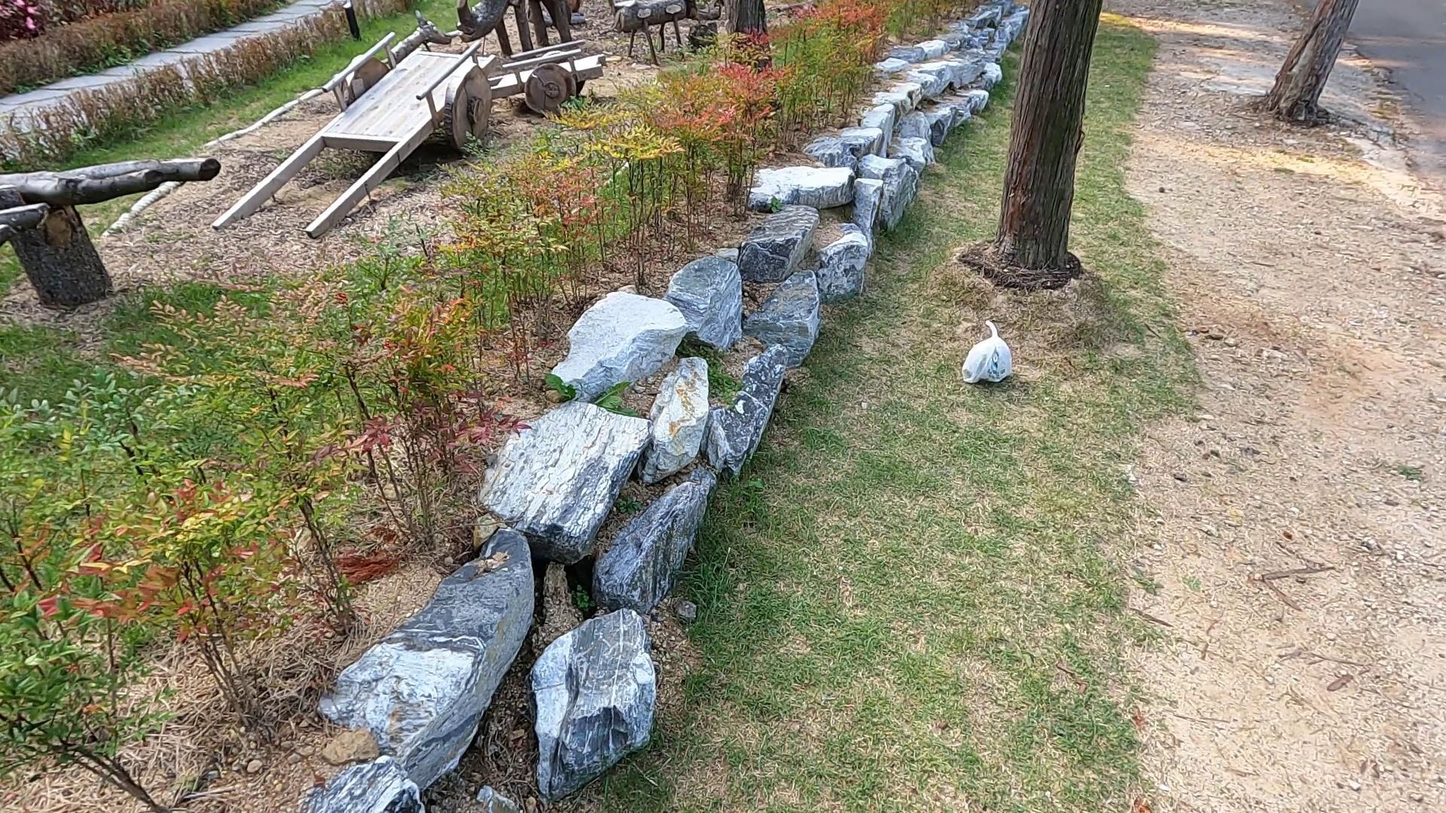trash: (960, 318, 1018, 389)
